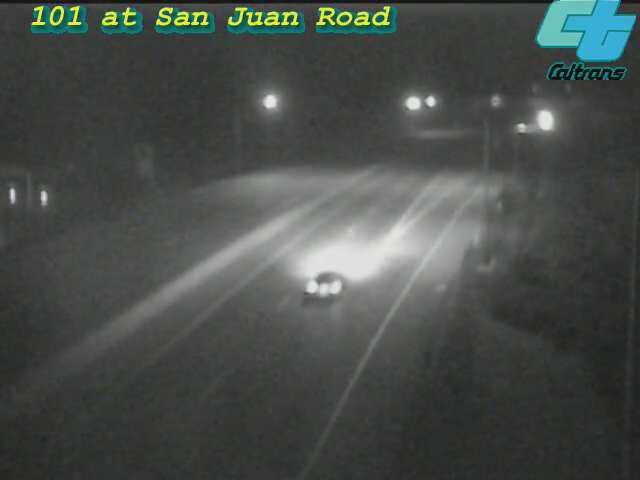vehicle: (286, 241, 366, 321), (496, 104, 546, 154), (521, 93, 571, 143)
